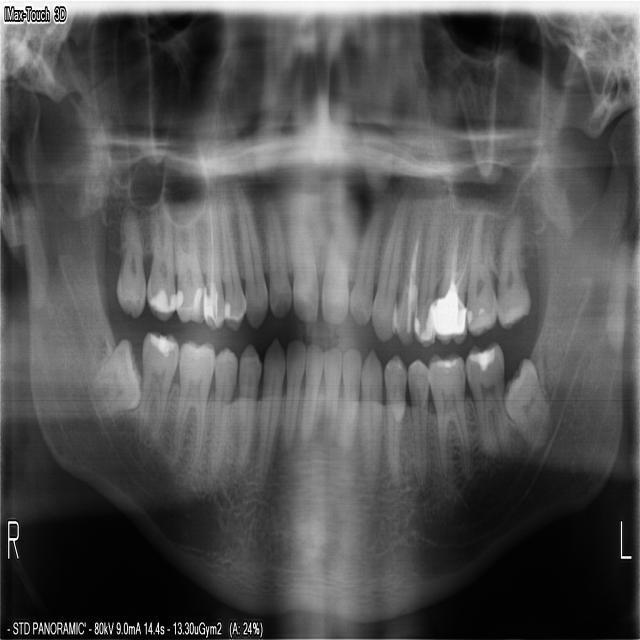LCD: (358, 337, 382, 496)
LCU: (368, 183, 408, 343)
LID: (317, 336, 342, 453), (338, 339, 361, 465)
LIU: (346, 202, 386, 332), (319, 193, 349, 331)
LMD: (422, 347, 473, 485), (501, 345, 556, 460), (462, 338, 511, 463)
LMU: (430, 193, 481, 349), (464, 195, 500, 341), (495, 199, 532, 330)
LPMD: (404, 351, 431, 497), (380, 347, 407, 491)
LPMU: (388, 192, 429, 346), (409, 192, 447, 349)
RCD: (251, 328, 286, 496)
RCU: (229, 165, 267, 333)
RID: (293, 337, 324, 448), (279, 331, 307, 448)
RIU: (281, 183, 319, 328), (255, 183, 293, 322)
RMD: (167, 334, 215, 478), (81, 328, 141, 431), (134, 325, 180, 456)
RMU: (172, 193, 208, 328), (142, 195, 174, 328), (114, 201, 145, 325)
RPMD: (229, 335, 262, 487), (206, 341, 237, 479)
RPMU: (216, 190, 247, 334), (200, 188, 224, 333)
